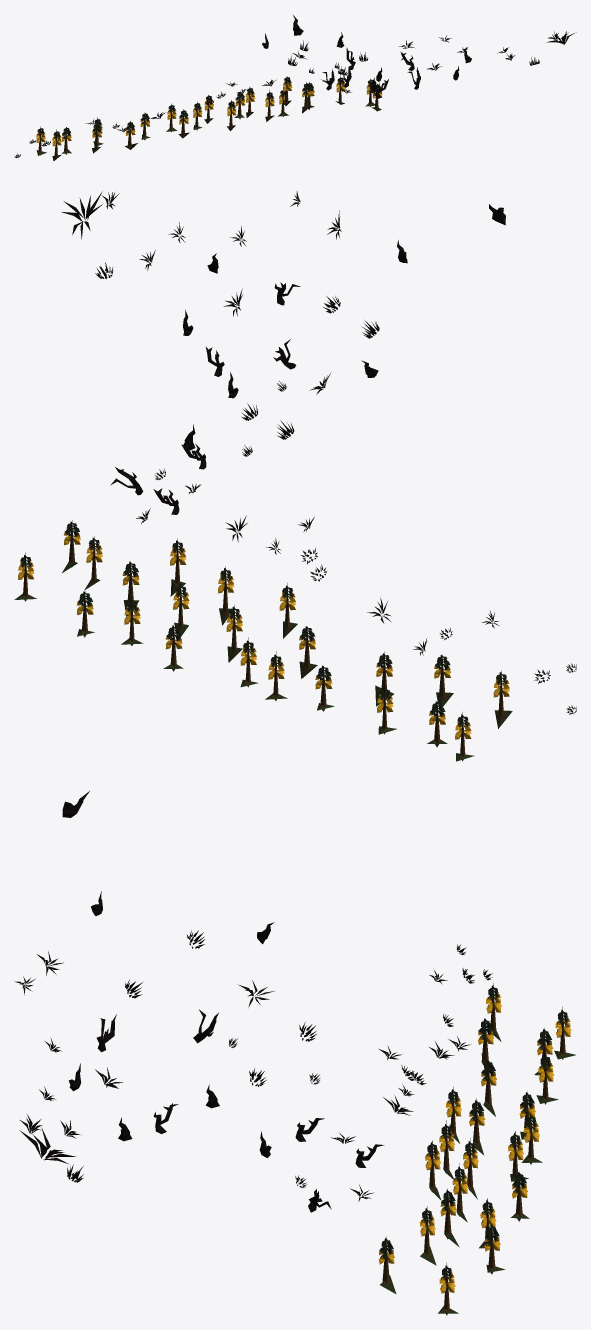
File: c_trees_volcano.fbx
3 renders of one model, top to bottom at view 1: azimuth 30°, elevation 25°; view 2: azimuth 150°, elevation 25°; view 3: azimuth 270°, elevation 25°, orthographic. The views are drawn at different scales.
Parts seen in each view (by area): view 1: c_trees_volcano; view 2: c_trees_volcano; view 3: c_trees_volcano.
Part boxes in pixels (x1=…): c_trees_volcano: x1=14, y1=15, x2=576, y2=160; c_trees_volcano: x1=14, y1=191, x2=576, y2=761; c_trees_volcano: x1=14, y1=791, x2=575, y2=1315.
Bounding box in the file's own units: 45.98 × 21.24 × 29.12.
